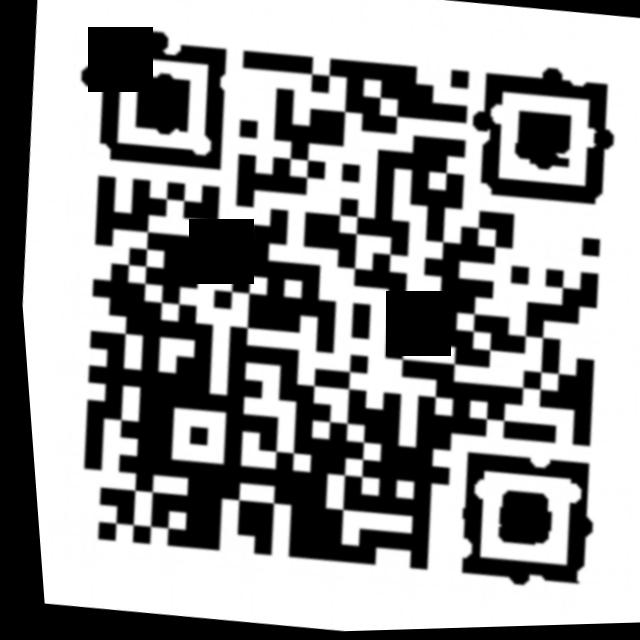QR_CODE: (10, 1, 640, 627)
